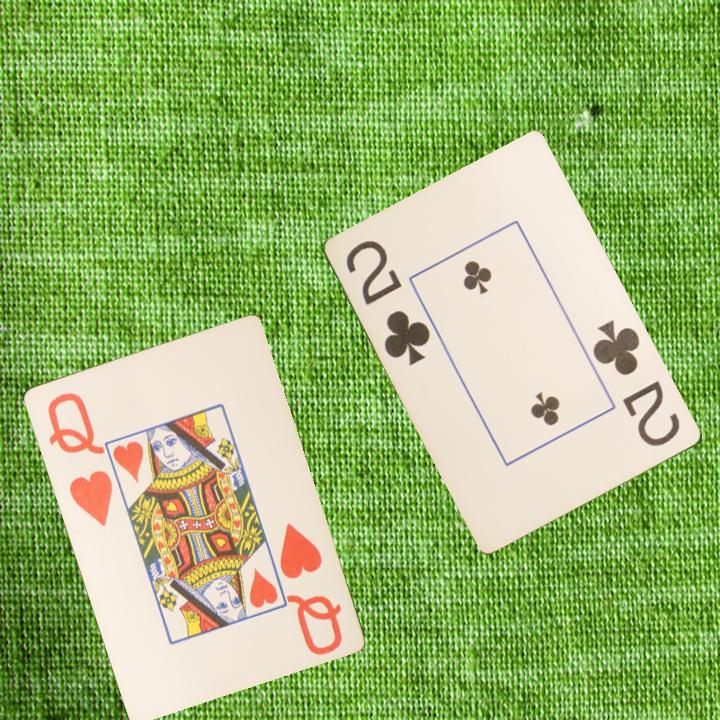2c: (589, 316, 684, 450), (342, 236, 434, 369)
Qh: (43, 388, 115, 529), (275, 519, 345, 658)
